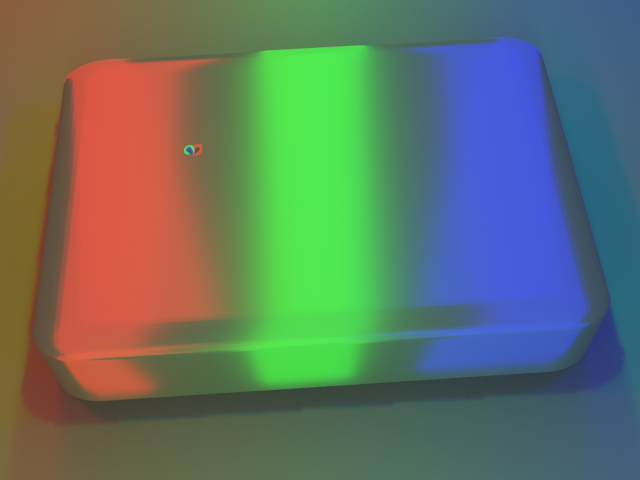dent: (159, 124, 199, 161)
